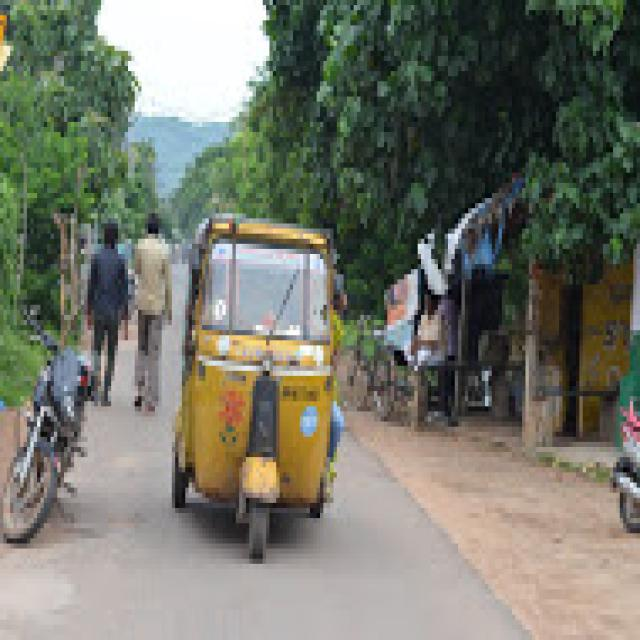auto_front: (172, 200, 340, 570)
two_wheeler_front: (0, 326, 95, 538)
